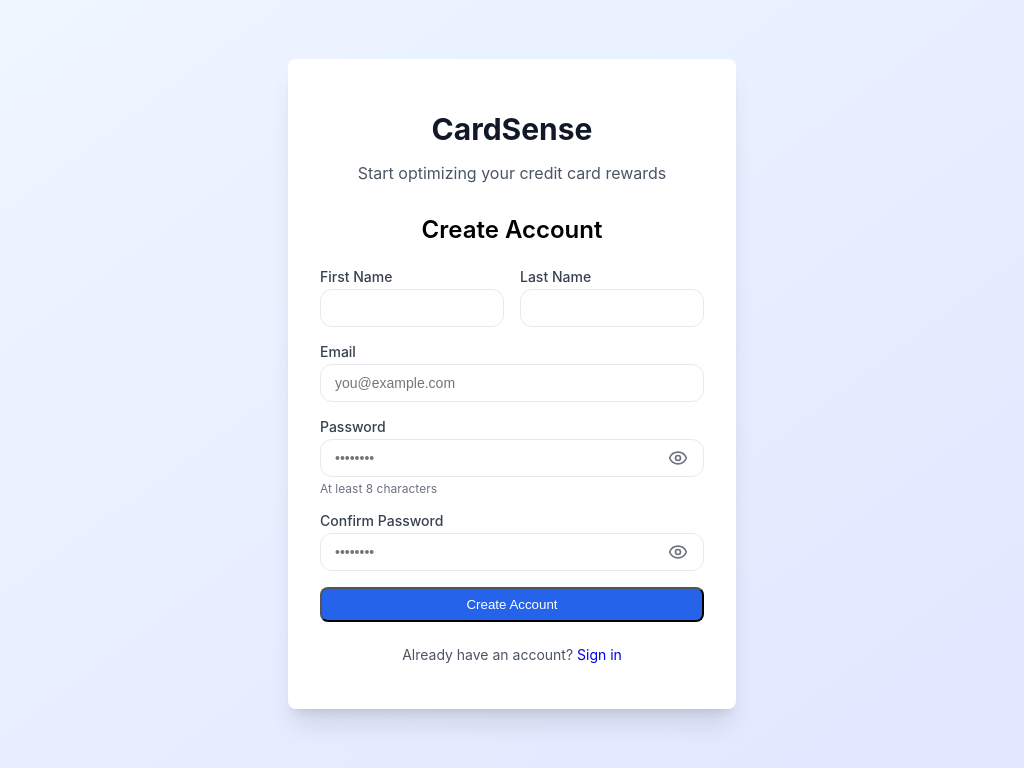
Test case: Register Component › Registration Flow › displays error on unexpected exception
The image size is (1024, 768).
Type "John" into the field labelled "First Name" at (412, 308), box [320,289,504,327]
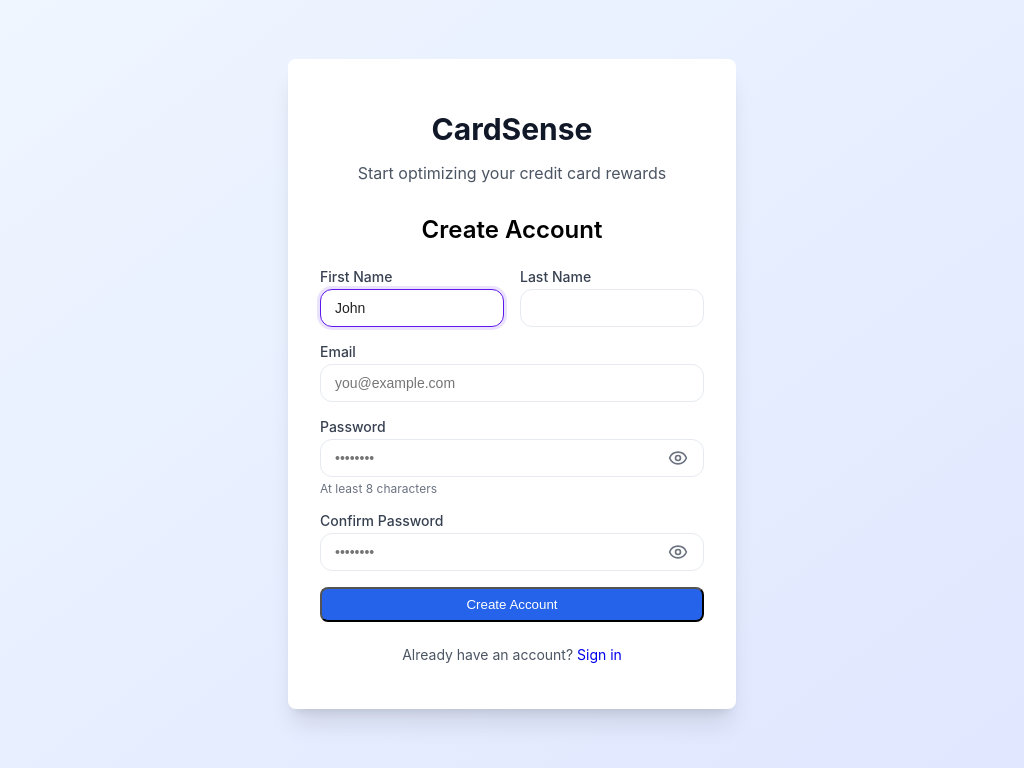
Type "Doe" into the field labelled "Last Name" at (612, 308), box [520,289,704,327]
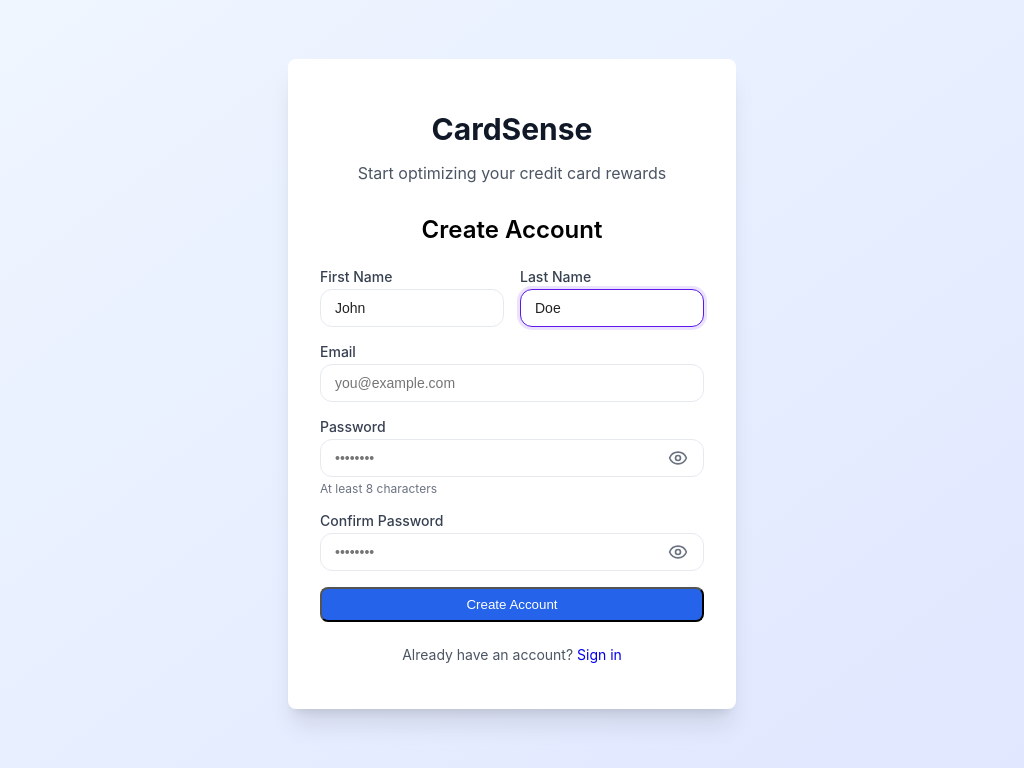
Type "john@example.com" into the field labelled "Email" at (512, 383), box [320,364,704,402]
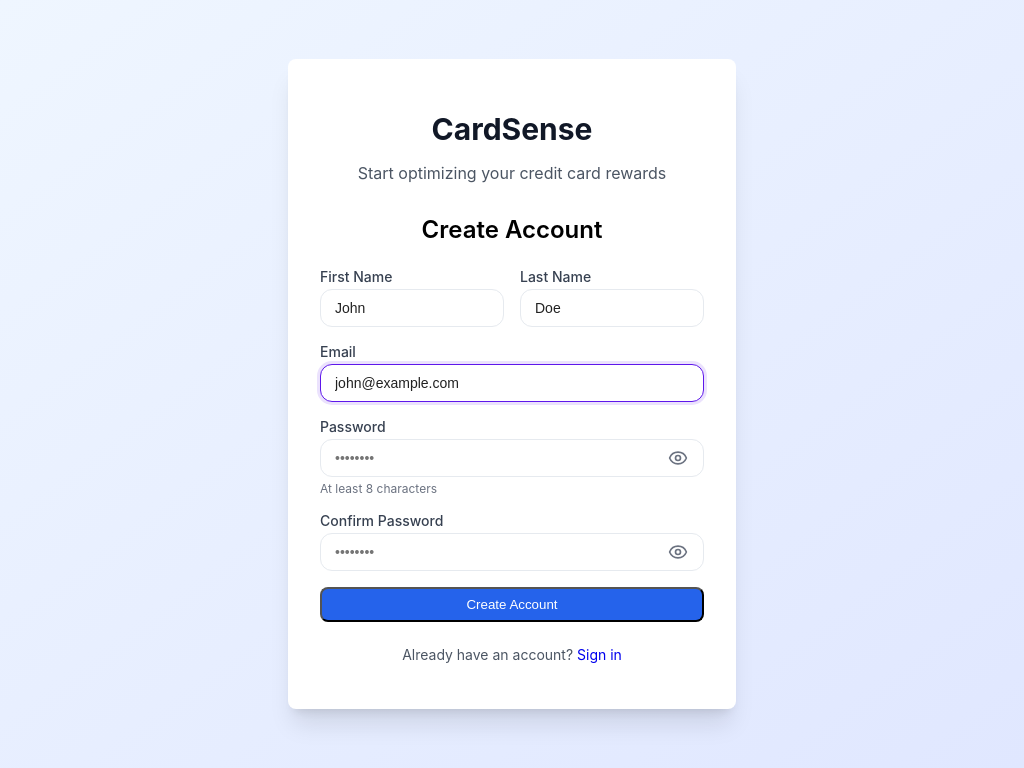
Type "password123" into the password field labelled "Password" at (512, 458), box [320,439,704,477]
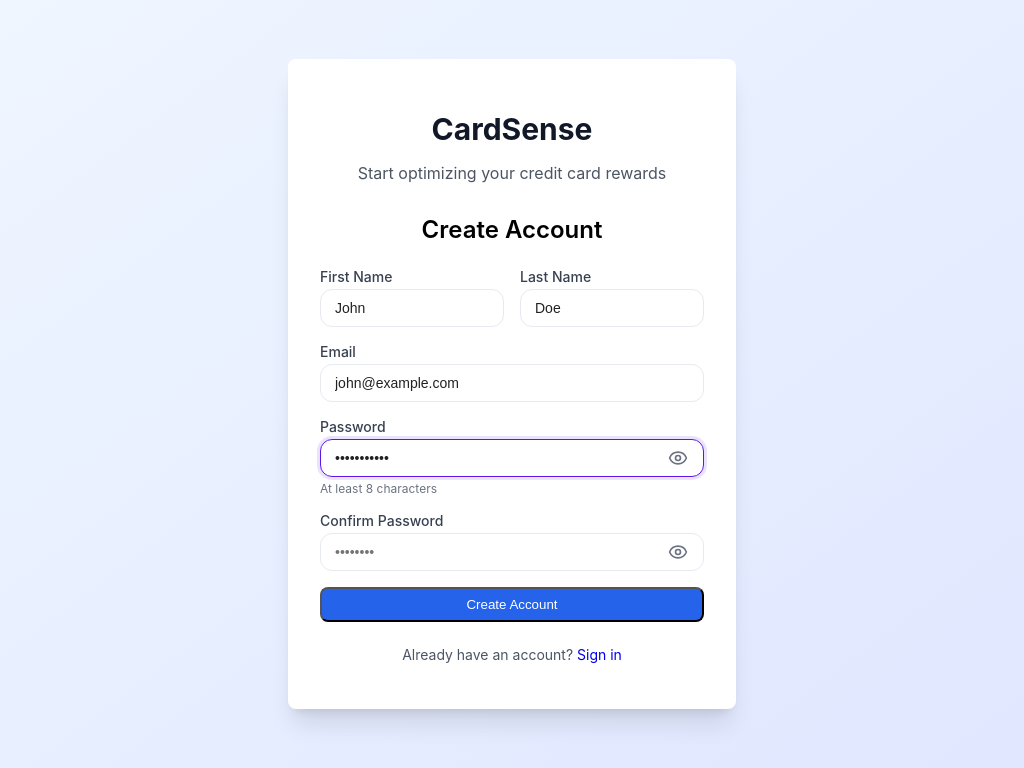
Type "password123" into the password field labelled "Confirm Password" at (512, 552), box [320,533,704,571]
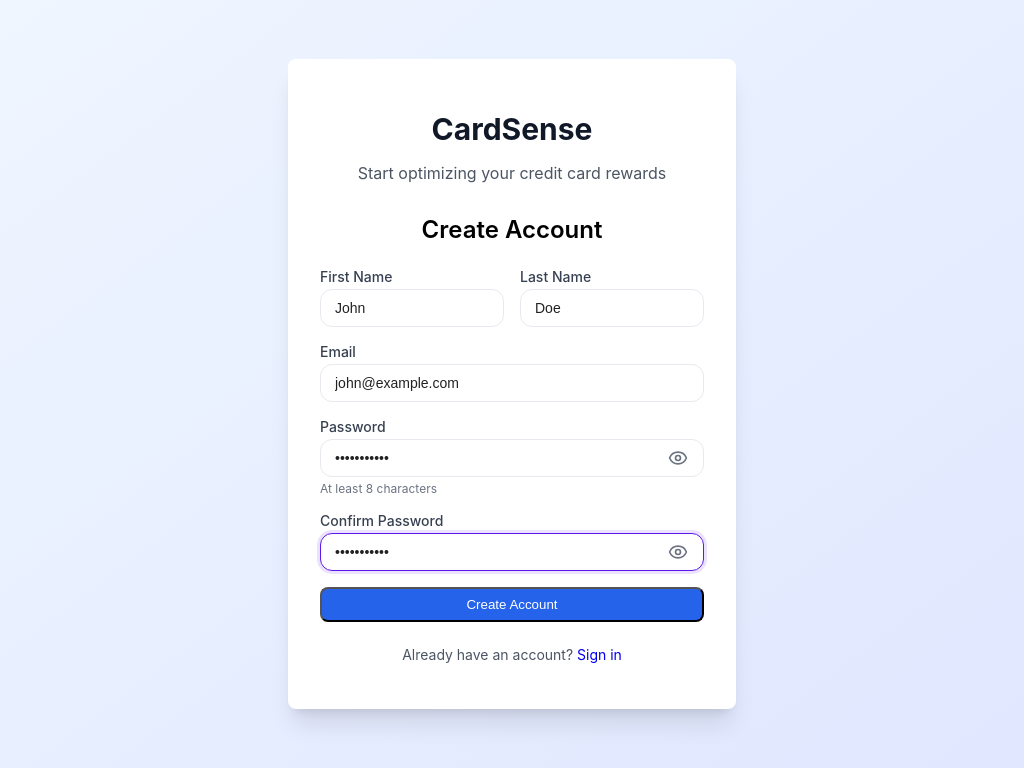
Click the button "Create Account" at (512, 604), box [320,587,704,622]
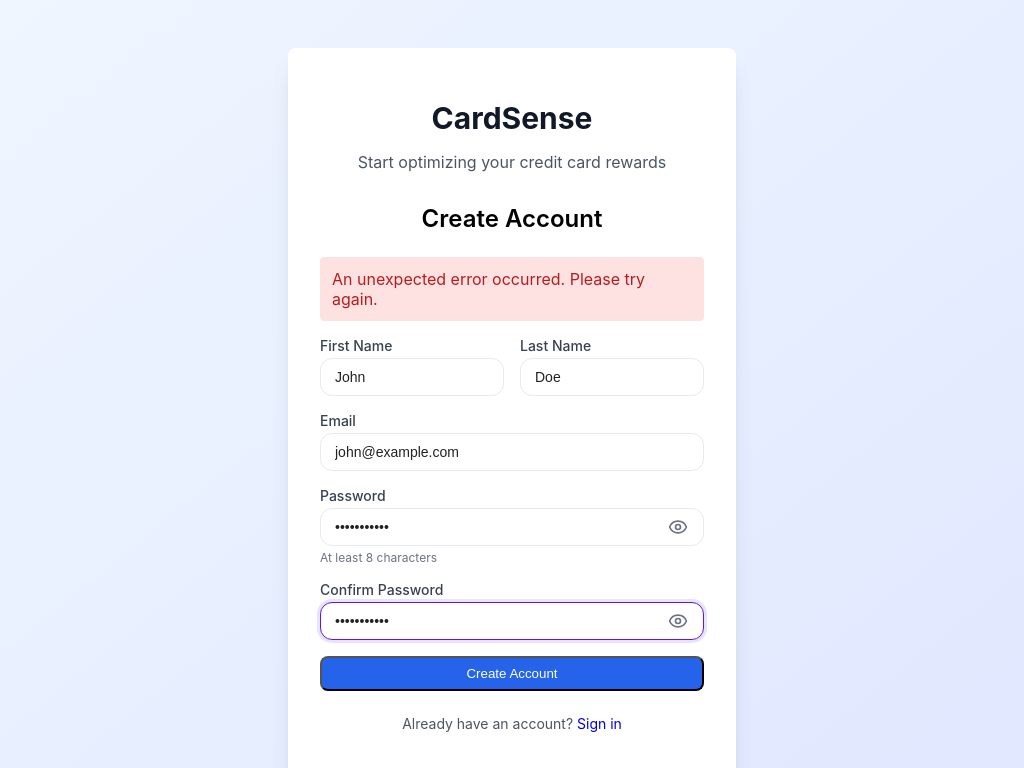
Expected: the text "An unexpected error occurred. Please try again." is shown, [320,257,704,321]
